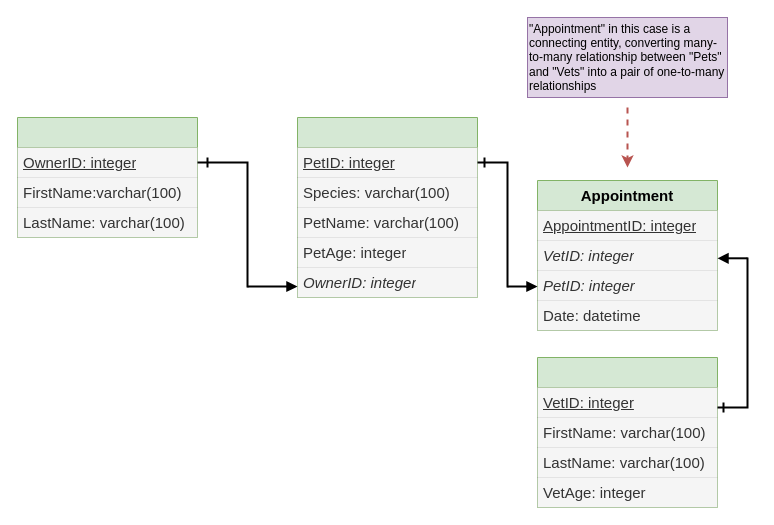
The diagram is 774 pixels wide and 525 high, and some of its shapes have lost their labels. Each missing label, with the box of its shape:
Owners: (16, 116, 198, 238)
Pets: (296, 116, 478, 298)
Vets: (536, 356, 718, 508)
